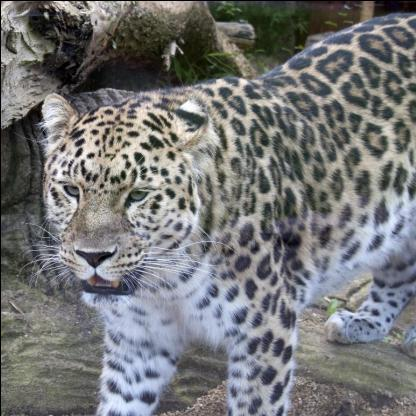leopard: (31, 85, 207, 305)
